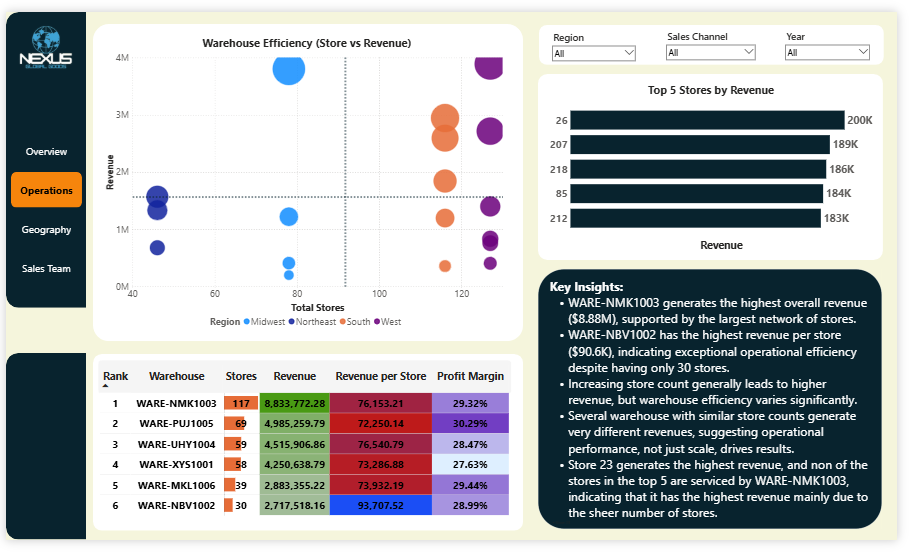

What the dashboard file says about the page in this screenshot:
{"tool":"powerbi","page":{"name":"Operations","canvas":[2700,1600],"ordinal":1},"visuals":[{"type":"shape","title":"Side Bar","box":[0,0,255.2,896.6],"z":0},{"type":"shape","title":"Side Bar","box":[0,1034.5,244.8,565.5],"z":1000},{"type":"shape","title":"Background","box":[241.4,0,2458.6,1600],"z":2000},{"type":"image","title":"Company Logo","box":[0,0,242.5,240],"z":3000},{"type":"pageNavigator","box":[15,367.5,215,462.5],"z":4000},{"type":"shape","title":"Middle Card","box":[264.5,1035.5,1303.2,535.5],"z":5000},{"type":"shape","title":"Middle Card","box":[280,1053.3,1253.3,103.3],"z":6000},{"type":"shape","title":"Top Card","box":[1613.9,38.2,1044.8,120.7],"z":7000},{"type":"slicer","title":"Year Slicer","fields":{"Values":["Dim Sales Order.Sales Channel"]},"box":[1989.8,48.5,289.7,103.4],"z":8000},{"type":"slicer","title":"Year Slicer","fields":{"Values":["Dim Date.Year"]},"box":[2351.8,48.5,275.9,103.4],"z":9000},{"type":"slicer","title":"Year Slicer","fields":{"Values":["Dim Region.Region"]},"box":[1644.9,52,272.4,100],"z":10000},{"type":"tableEx","fields":{"Values":["Metric Measures.Warehouse Revenue Rank","Dim Sales Order.WarehouseCode","Dim Sales Order.StoreID","Metric Measures.Revenue","Metric Measures.Revenue per Store","Metric Measures.Profit Margin"]},"box":[280,1063.3,1253.3,486.7],"z":11000},{"type":"shape","title":"Middle Card","box":[264.5,35.5,1303.2,961.3],"z":12000},{"type":"scatterChart","title":" Warehouse Efficiency (Store vs Revenue)","fields":{"Category":["Dim Sales Order.WarehouseCode"],"Series":["Dim Region.Region"],"X":["Metric Measures.Total Stores"],"Y":["Metric Measures.Revenue"],"Size":["Metric Measures.Profit"]},"box":[290.3,71,1241.9,893.5],"z":13000},{"type":"shape","title":"Middle Card","box":[1612.1,187.9,1045.5,563.6],"z":14000},{"type":"clusteredBarChart","title":"Top 5 Stores by Revenue","fields":{"Y":["Metric Measures.Revenue"],"Category":["Dim Sales Order.StoreID"]},"box":[1642.4,212.1,987.9,518.2],"z":15000},{"type":"shape","title":"Middle Card","box":[1612.1,778.8,1042.4,787.9],"z":16000},{"type":"textbox","box":[1642.4,800,987.9,772.7],"z":17000}]}

Visuals, with their boxes in screenshot pixels (x1, y1, x2, y2), scaled from the page's 2700x1600 canvas onto the 910x555 screenshot:
"Side Bar" shape: bbox(0, 0, 86, 311)
"Side Bar" shape: bbox(0, 359, 83, 554)
"Background" shape: bbox(81, 0, 909, 554)
"Company Logo" image: bbox(0, 0, 82, 83)
pageNavigator: bbox(5, 127, 78, 288)
"Middle Card" shape: bbox(89, 359, 528, 545)
"Middle Card" shape: bbox(94, 365, 517, 401)
"Top Card" shape: bbox(544, 13, 896, 55)
"Year Slicer" slicer: bbox(671, 17, 768, 53)
"Year Slicer" slicer: bbox(793, 17, 886, 53)
"Year Slicer" slicer: bbox(554, 18, 646, 53)
tableEx - Metric Measures.Warehouse Revenue Rank x Dim Sales Order.WarehouseCode: bbox(94, 369, 517, 538)
"Middle Card" shape: bbox(89, 12, 528, 346)
" Warehouse Efficiency (Store vs Revenue)" scatterChart: bbox(98, 25, 516, 335)
"Middle Card" shape: bbox(543, 65, 896, 261)
"Top 5 Stores by Revenue" clusteredBarChart: bbox(554, 74, 887, 253)
"Middle Card" shape: bbox(543, 270, 895, 543)
textbox: bbox(554, 278, 887, 546)
